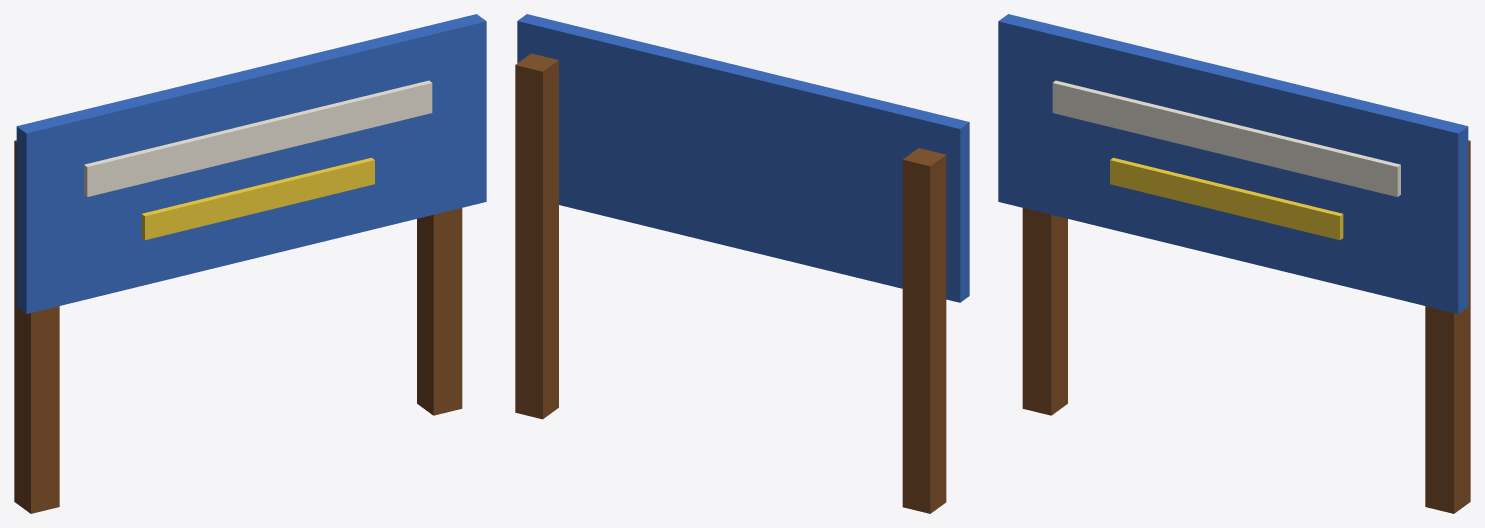
Rendered from school_sign.fbx.
3 renders of one model, left to right at view 1: azimuth 30°, elevation 25°; view 2: azimuth 150°, elevation 25°; view 3: azimuth 330°, elevation 25°, orthographic. The views are drawn at different scales.
Parts seen in each view (by area): view 1: school_sign; view 2: school_sign; view 3: school_sign.
Boxes of the visible parts, <box> form: school_sign: <box>14,14,486,513</box>; school_sign: <box>515,14,969,513</box>; school_sign: <box>998,14,1470,513</box>.
Bounding box in the file's own units: 1.6 × 1.3 × 0.18.
